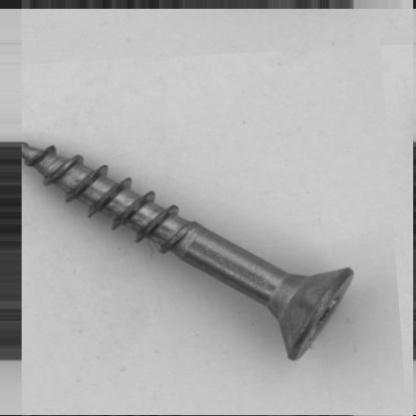metal: (15, 138, 358, 364)
